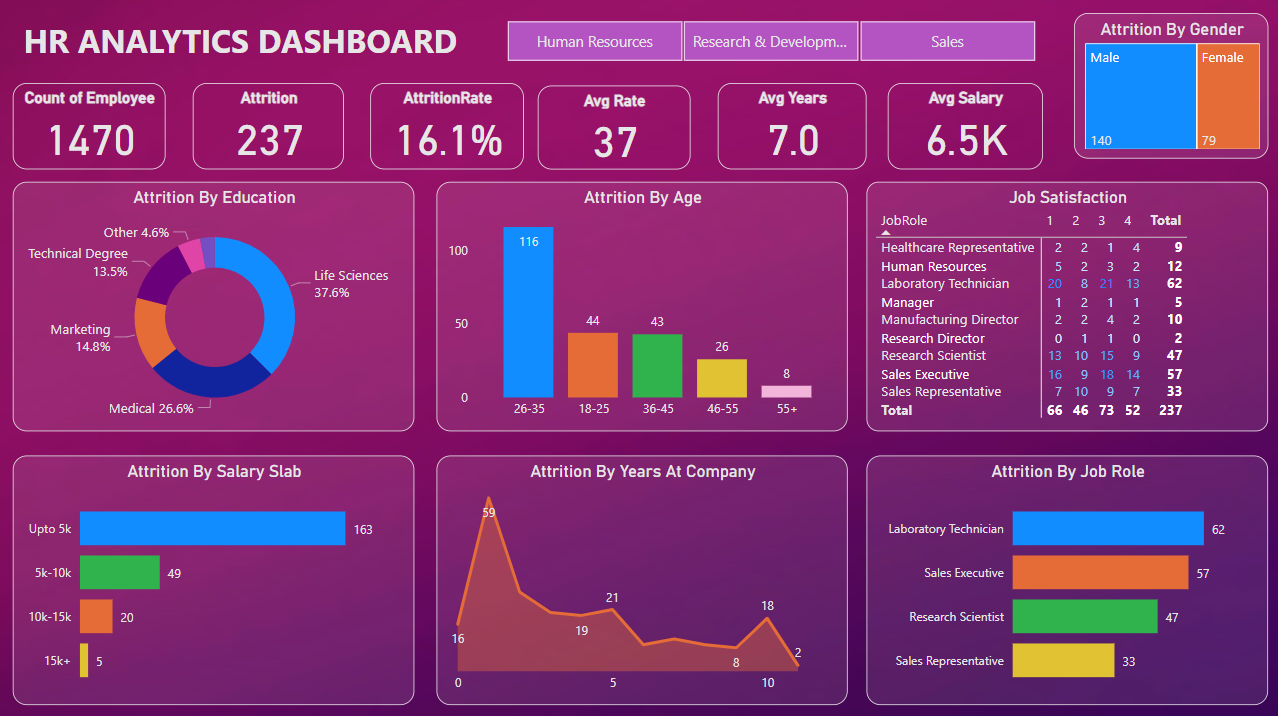

Layout of this report page (visuals, bound fields, positions):
{"tool":"powerbi","page":{"name":"Page 1","canvas":[1280,720],"ordinal":0},"visuals":[{"type":"card","title":"Count of Employee","fields":{"Values":["CountNonNull(HR_Analytics.EmpID)"]},"box":[13.8,85,152.5,86.2],"z":0},{"type":"card","title":"Attrition","fields":{"Values":["Sum(HR_Analytics.AttritionCount)"]},"box":[193.8,85,151.2,86.2],"z":1000},{"type":"card","title":"AttritionRate","fields":{"Values":["HR_Analytics.AttritionRate"]},"box":[371.2,85,153.8,86.2],"z":2000},{"type":"card","title":"Avg Rate","fields":{"Values":["Avg(HR_Analytics.Age)"]},"box":[538.8,87.5,152.5,83.8],"z":3000},{"type":"card","title":"Avg Salary","fields":{"Values":["Avg(HR_Analytics.MonthlyIncome)"]},"box":[888.8,85,155,86.2],"z":4000},{"type":"card","title":"Avg Years","fields":{"Values":["Avg(HR_Analytics.YearsAtCompany)"]},"box":[718.8,85,148.8,86.2],"z":5000},{"type":"donutChart","title":"Attrition By Education","fields":{"Category":["HR_Analytics.EducationField"],"Y":["Sum(HR_Analytics.AttritionCount)"]},"box":[13.7,183.7,401.7,249.5],"z":6000},{"type":"columnChart","title":"Attrition By Age","fields":{"Category":["HR_Analytics.AgeGroup"],"Y":["Sum(HR_Analytics.AttritionCount)"]},"box":[437.4,183.7,411.3,249.5],"z":7000},{"type":"pivotTable","title":"Job Satisfaction","fields":{"Rows":["HR_Analytics.JobRole"],"Columns":["HR_Analytics.JobSatisfaction"],"Values":["Sum(HR_Analytics.AttritionCount)"]},"box":[867.9,183.7,401.7,249.5],"z":8000},{"type":"barChart","title":"Attrition By Salary Slab","fields":{"Category":["HR_Analytics.SalarySlab"],"Y":["Sum(HR_Analytics.AttritionCount)"]},"box":[13.7,457.9,401.7,249.5],"z":8001},{"type":"barChart","title":"Attrition By Job Role","fields":{"Category":["HR_Analytics.JobRole"],"Y":["Sum(HR_Analytics.AttritionCount)"]},"box":[867.9,457.9,401.7,249.5],"z":8002},{"type":"areaChart","title":"Attrition By Years At Company","fields":{"Category":["HR_Analytics.YearsAtCompany"],"Y":["Sum(HR_Analytics.AttritionCount)"]},"box":[437.4,457.9,411.3,249.5],"z":8003},{"type":"treemap","title":"Attrition By Gender","fields":{"Group":["HR_Analytics.Gender"],"Values":["Sum(HR_Analytics.AttritionCount)"]},"box":[1074.9,15.1,194.7,145.3],"z":8004},{"type":"slicer","fields":{"Values":["HR_Analytics.Department"]},"box":[482.6,16.5,577.2,53.5],"z":8005},{"type":"textbox","box":[13.7,16.5,455.2,52.1],"z":8006}]}

Visuals, with their boxes in screenshot pixels (x1, y1, x2, y2), scaled from the page's 1280x720 canvas onto the 1278x716 screenshot:
"Count of Employee" card: box=[14, 85, 166, 170]
"Attrition" card: box=[193, 85, 344, 170]
"AttritionRate" card: box=[371, 85, 524, 170]
"Avg Rate" card: box=[538, 87, 690, 170]
"Avg Salary" card: box=[887, 85, 1042, 170]
"Avg Years" card: box=[718, 85, 866, 170]
"Attrition By Education" donutChart: box=[14, 183, 415, 431]
"Attrition By Age" columnChart: box=[437, 183, 847, 431]
"Job Satisfaction" pivotTable: box=[867, 183, 1268, 431]
"Attrition By Salary Slab" barChart: box=[14, 455, 415, 703]
"Attrition By Job Role" barChart: box=[867, 455, 1268, 703]
"Attrition By Years At Company" areaChart: box=[437, 455, 847, 703]
"Attrition By Gender" treemap: box=[1073, 15, 1268, 160]
slicer - HR_Analytics.Department: box=[482, 16, 1058, 70]
textbox: box=[14, 16, 468, 68]
